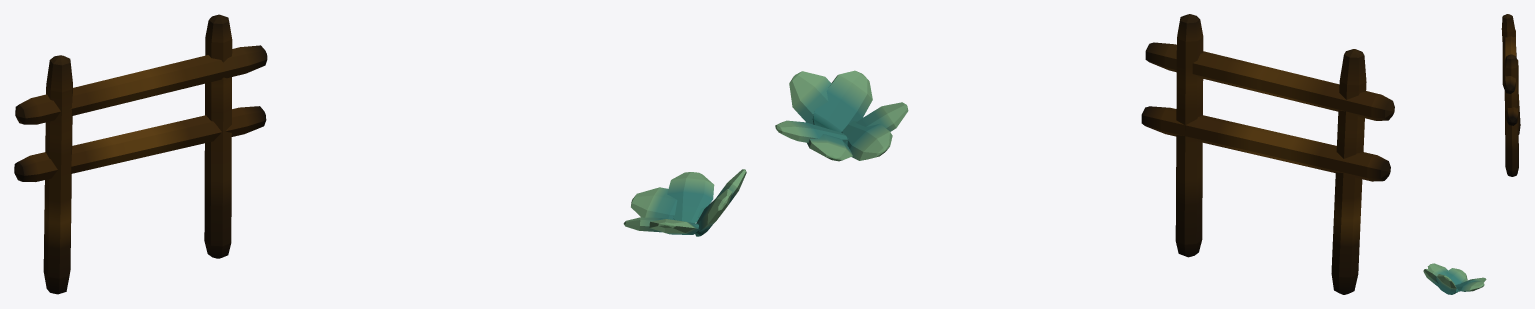
The model's file is AssetsheidiCloudFence.fbx.
The picture shows the model from 3 angles, left to right: view 1: azimuth 30°, elevation 25°; view 2: azimuth 150°, elevation 25°; view 3: azimuth 270°, elevation 25°; orthographic projection. The views are drawn at different scales.
Parts seen in each view (by area): view 1: Fence; view 2: Fence; view 3: Fence.
Part boxes in pixels (bbox=[...]): Fence: bbox=[14, 14, 746, 294]; Fence: bbox=[775, 14, 1394, 294]; Fence: bbox=[1423, 14, 1520, 294].
Bounding box in the file's own units: 0.5324 × 0.2115 × 0.1339.
